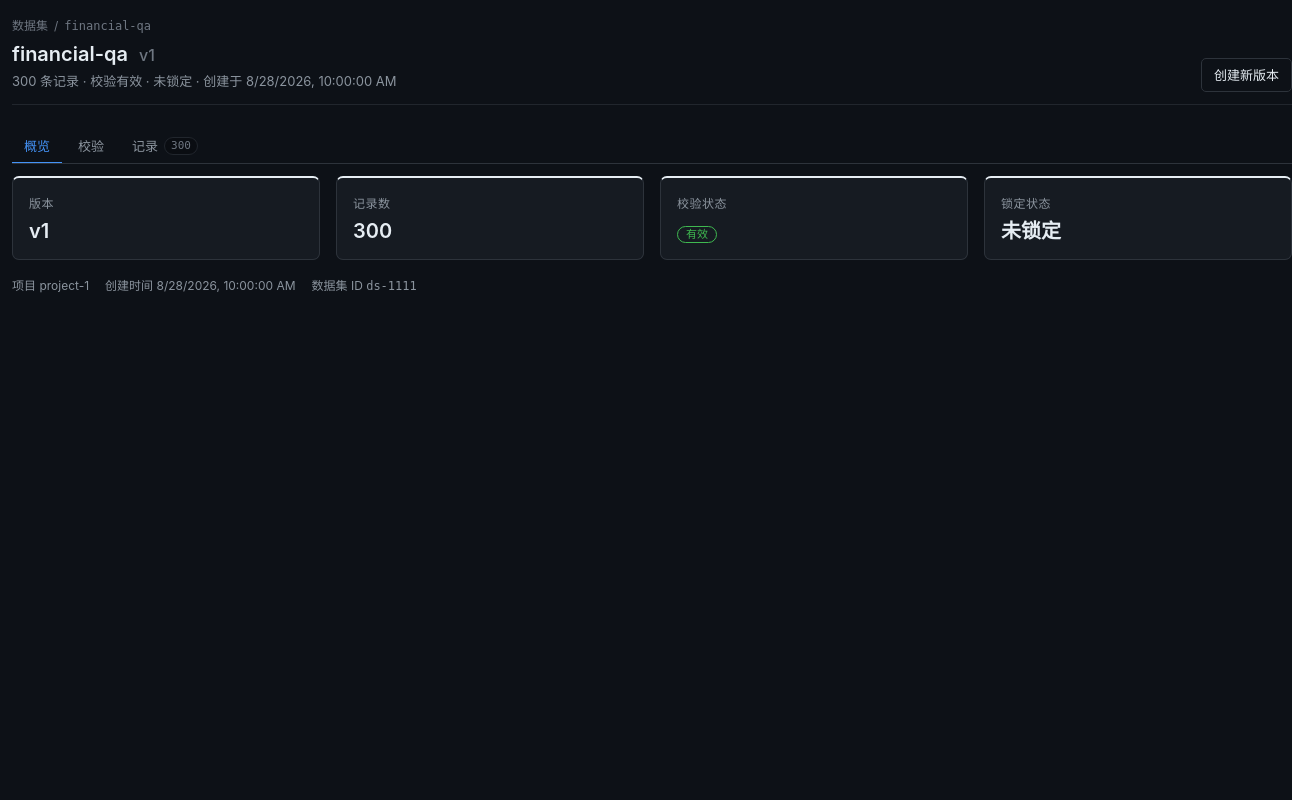
数据集详情 › 校验失败展示 5 类检查与 row_index 定位
The width and height of the screenshot is (1292, 800).
Click the tab with test id "tab-validation": point(91, 147) x1=66 y1=130 x2=116 y2=164
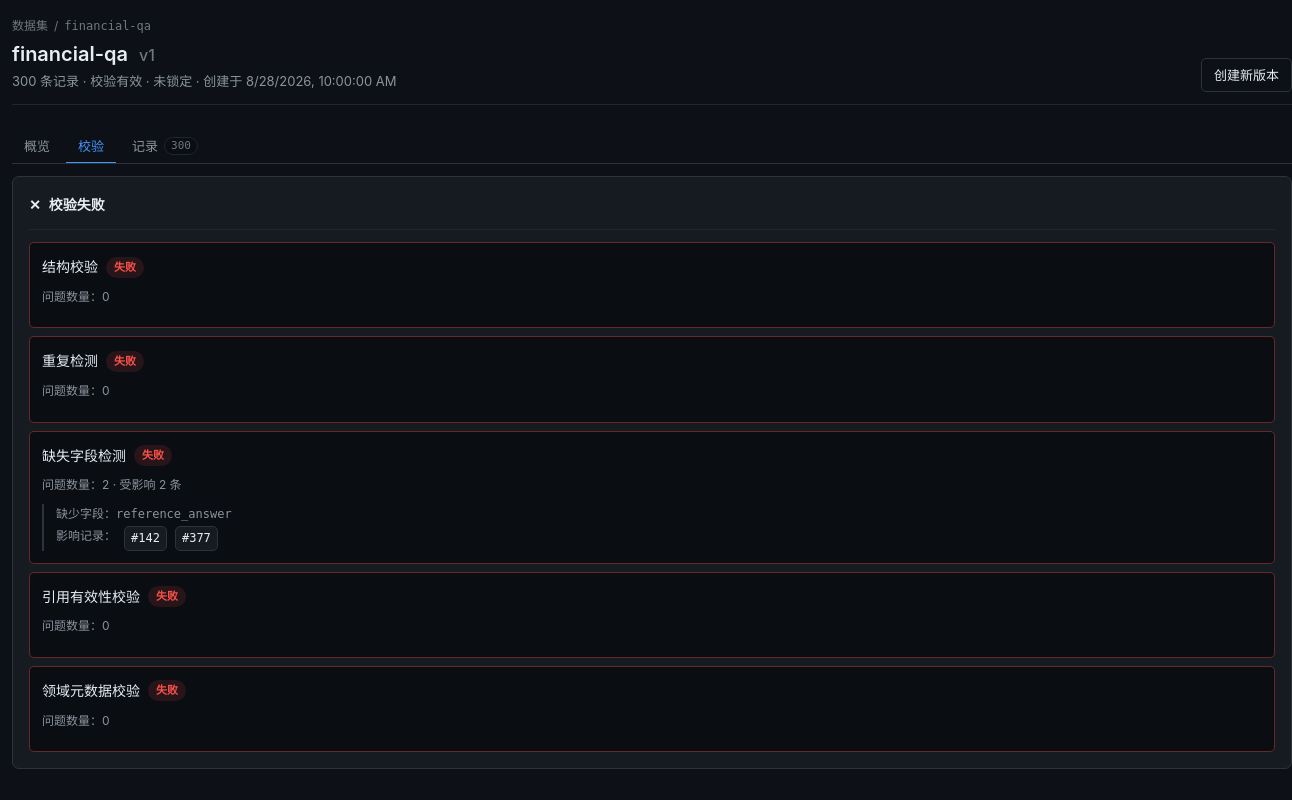
Expected: the text "校验失败" is shown, x1=49 y1=194 x2=105 y2=217
Expected: the text "结构校验" is shown, x1=42 y1=255 x2=98 y2=279
Expected: the text "缺失字段检测" is shown, x1=42 y1=444 x2=126 y2=468
